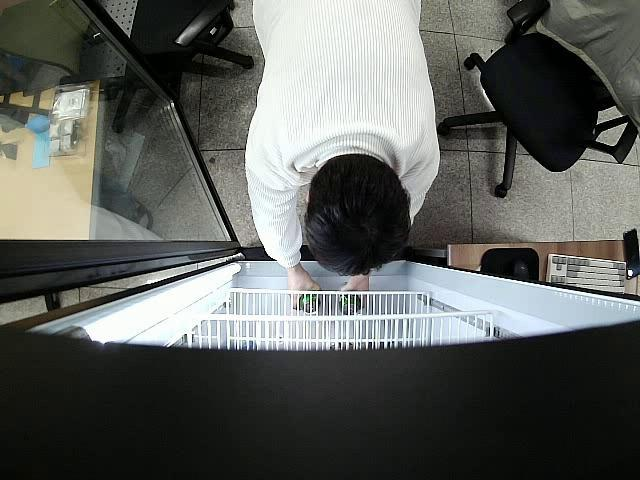12_chilsungCider: (340, 292, 360, 316), (300, 294, 320, 313)
